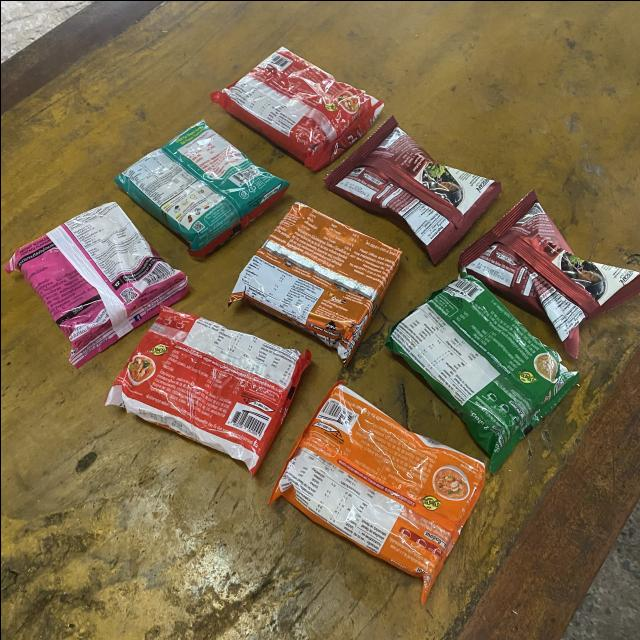plastik: (269, 380, 484, 603), (384, 268, 578, 472), (104, 306, 309, 475), (457, 189, 640, 356), (4, 202, 188, 366), (229, 202, 400, 363), (324, 115, 500, 262), (113, 119, 288, 256), (210, 46, 383, 170)
